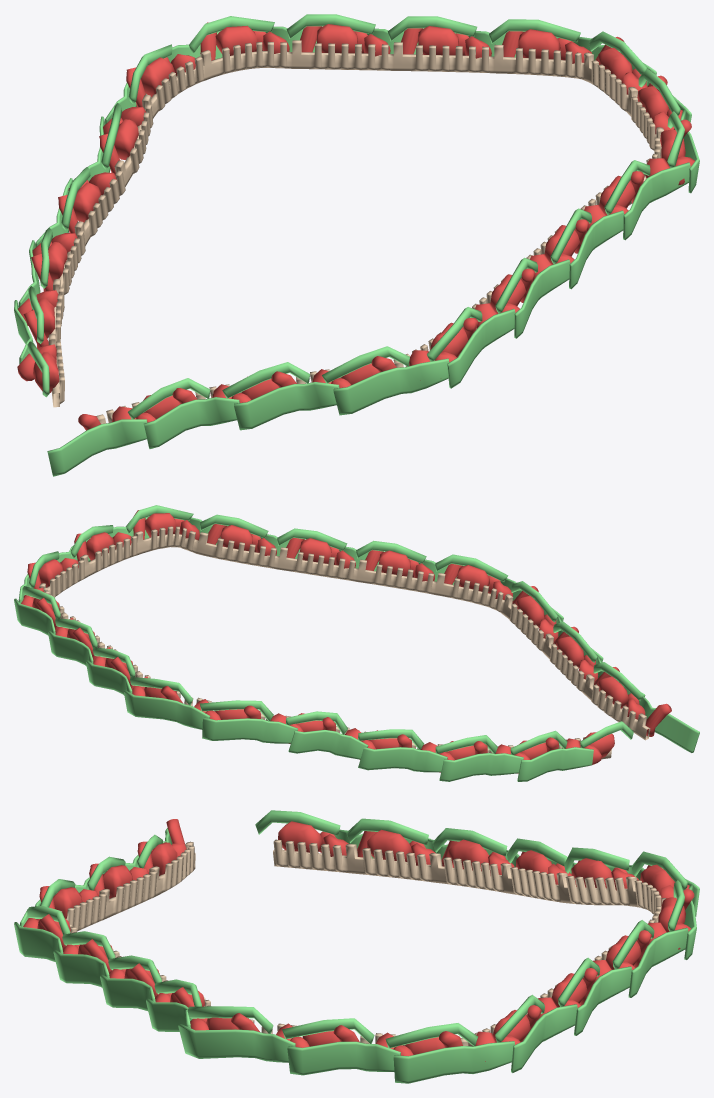
The model's file is chunk062.glb.
The picture shows the model from 3 angles, top to bottom: view 1: azimuth 30°, elevation 25°; view 2: azimuth 150°, elevation 25°; view 3: azimuth 270°, elevation 25°; orthographic projection. The views are drawn at different scales.
Parts seen in each view (by area): view 1: wall-col; view 2: wall-col; view 3: wall-col.
Part boxes in pixels (box(x1,y1,x2,y2)): wall-col: box(14, 14, 699, 476); wall-col: box(14, 505, 699, 781); wall-col: box(14, 810, 699, 1083).
Bounding box in the file's own units: 247 × 57.3 × 200.
